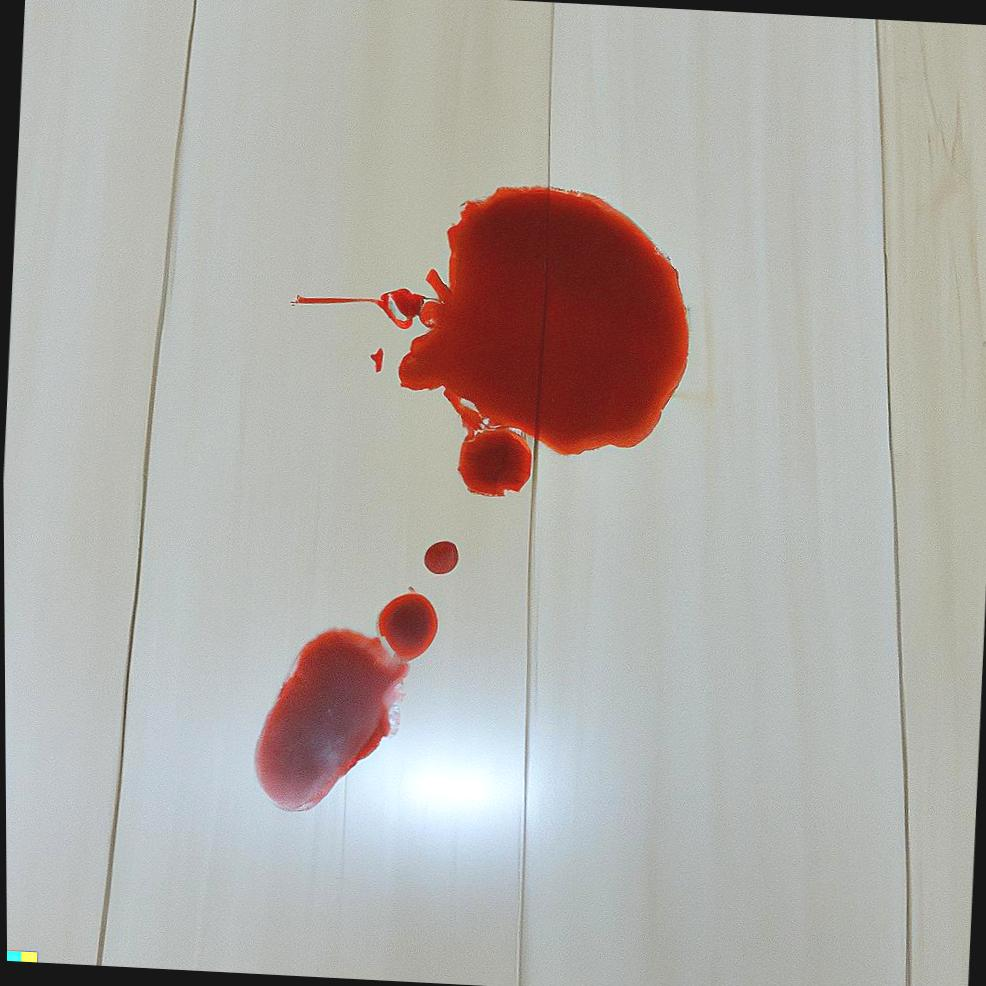Fire: (290, 186, 689, 497), (252, 587, 438, 813), (424, 540, 459, 574)
